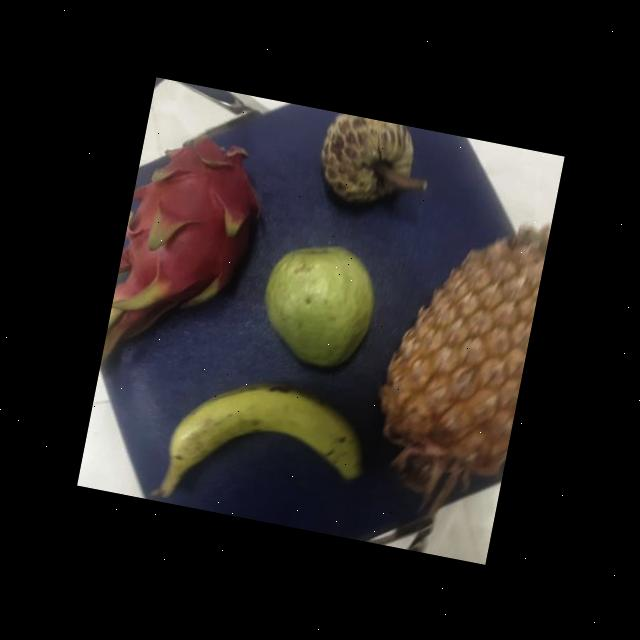Sakya fruit: (306, 109, 427, 218)
banana: (154, 363, 366, 509)
guava: (246, 234, 385, 372)
pitaya: (114, 132, 272, 317)
